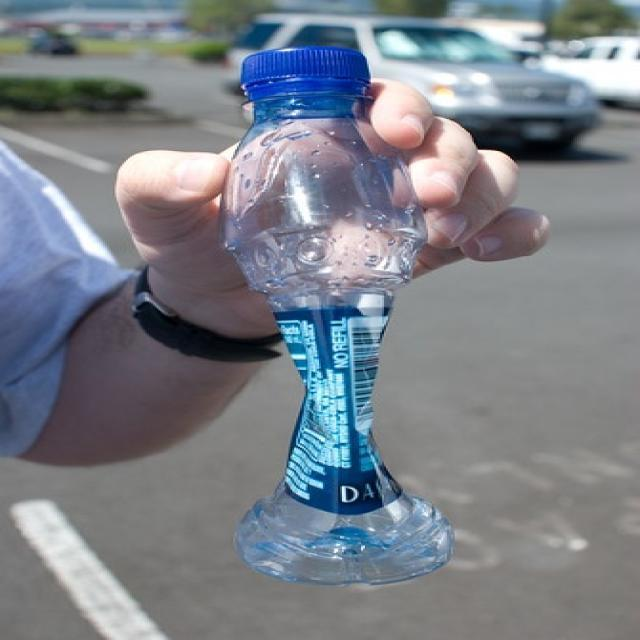bottle: (218, 46, 455, 587)
